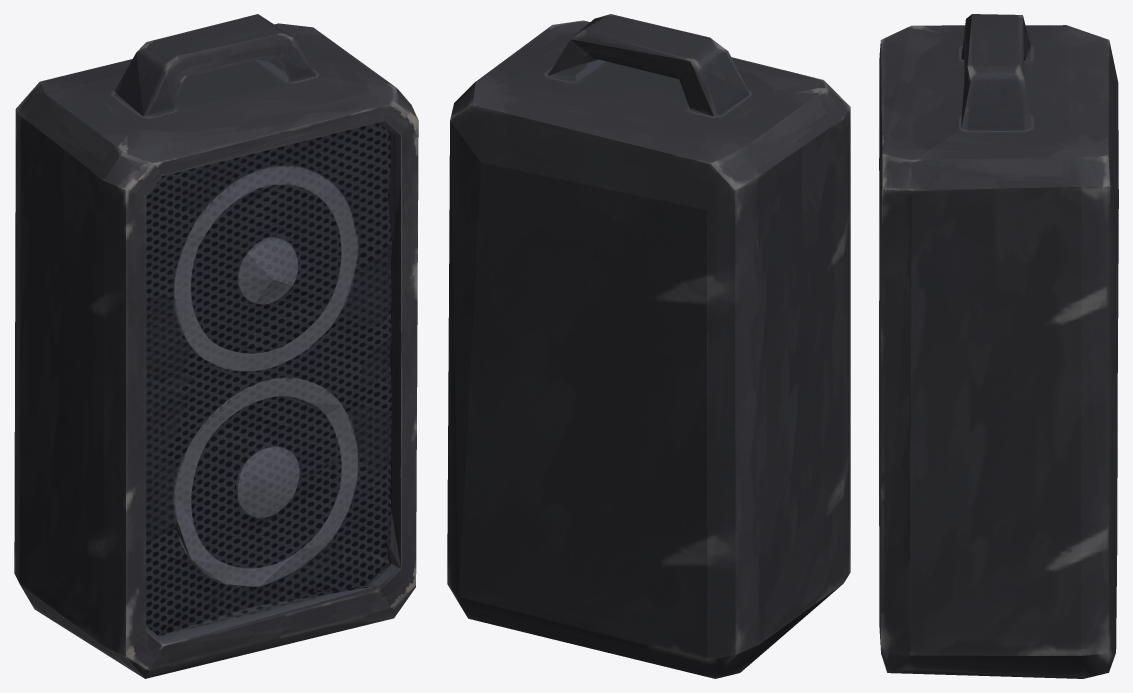
File: barangay_speaker_900tri_clean.glb
3 renders of one model, left to right at view 1: azimuth 30°, elevation 25°; view 2: azimuth 150°, elevation 25°; view 3: azimuth 270°, elevation 25°, orthographic.
Parts seen in each view (by area): view 1: output_unwrapped; view 2: output_unwrapped; view 3: output_unwrapped.
Boxes of the visible parts, x1,y1,x2,y2 form: output_unwrapped: (14, 14, 418, 678); output_unwrapped: (447, 14, 850, 678); output_unwrapped: (879, 14, 1118, 678).
Size of the model in its own units: 1.07 by 1.9 by 0.7187.
1 material, 1 textured.
